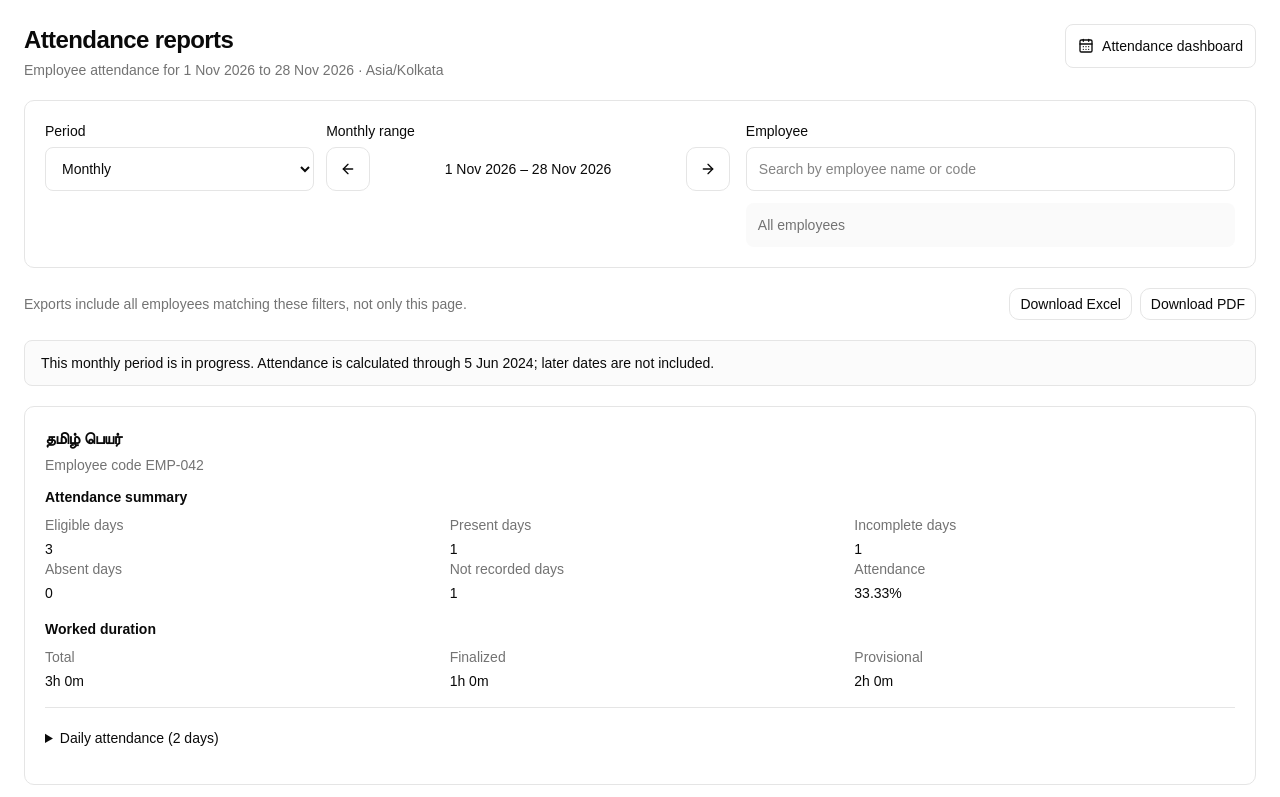
it: attendance report page › keeps the selected employee when searching and clears back to all employees
Focus the dropdown named "Search employees" at (990, 169), box [746, 147, 1235, 191]
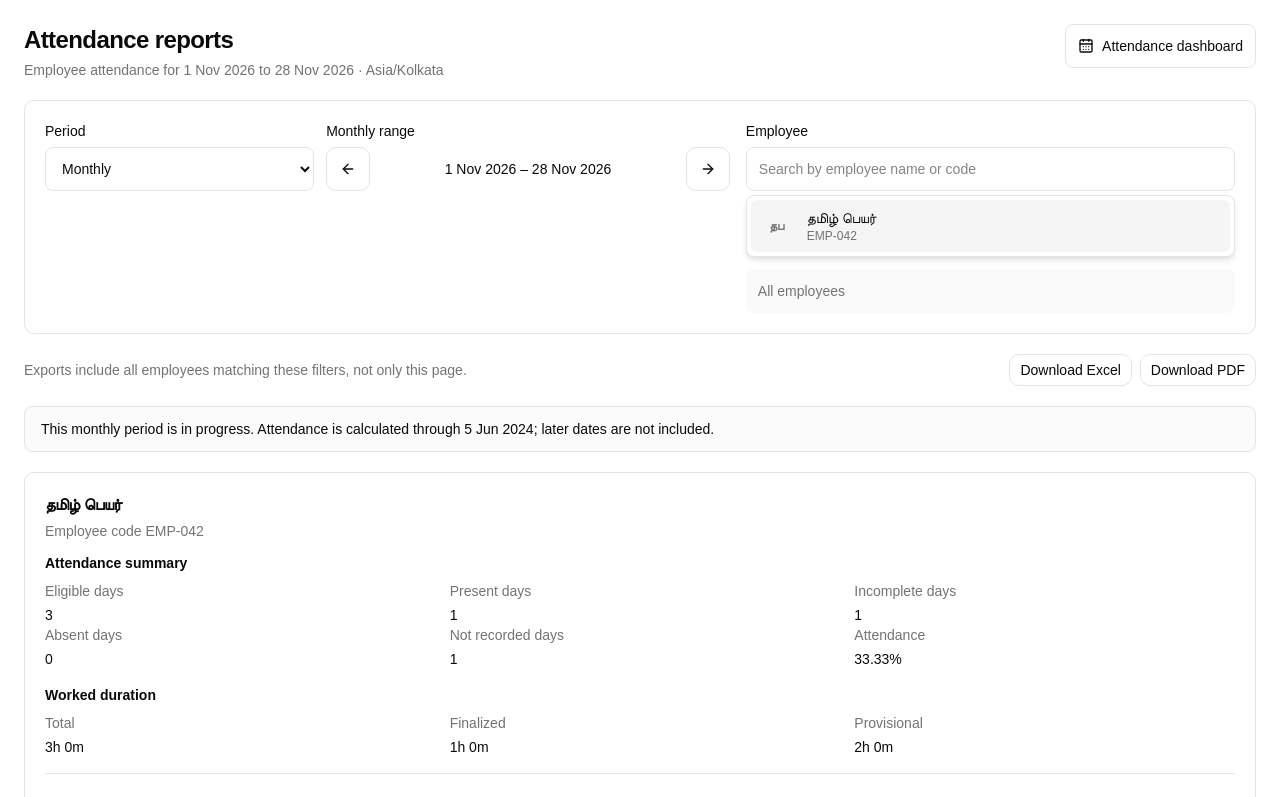
Result: the number of options is 1
Click the option "தப தமிழ் பெயர் EMP-042" at (777, 226), box [751, 200, 1230, 252]
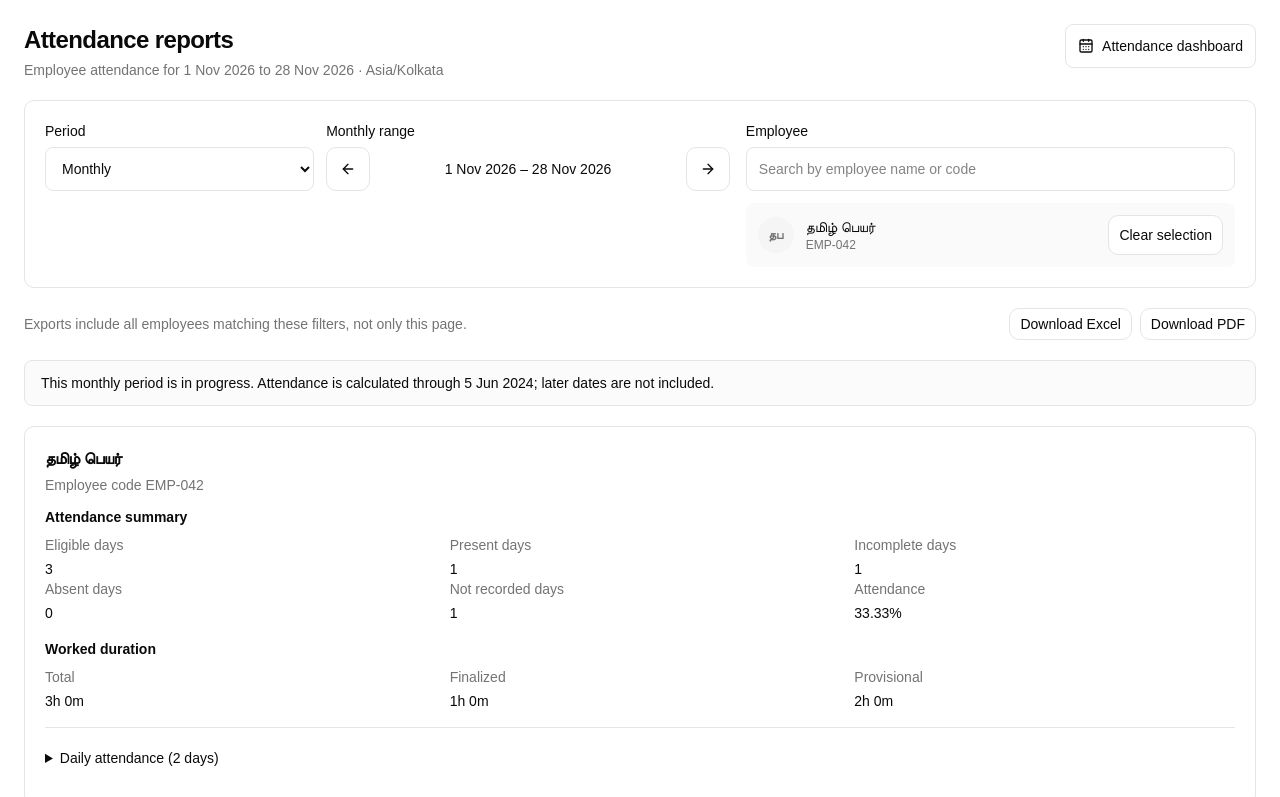
Type "EMP-042" into the dropdown named "Search employees" at (990, 169), box [746, 147, 1235, 191]
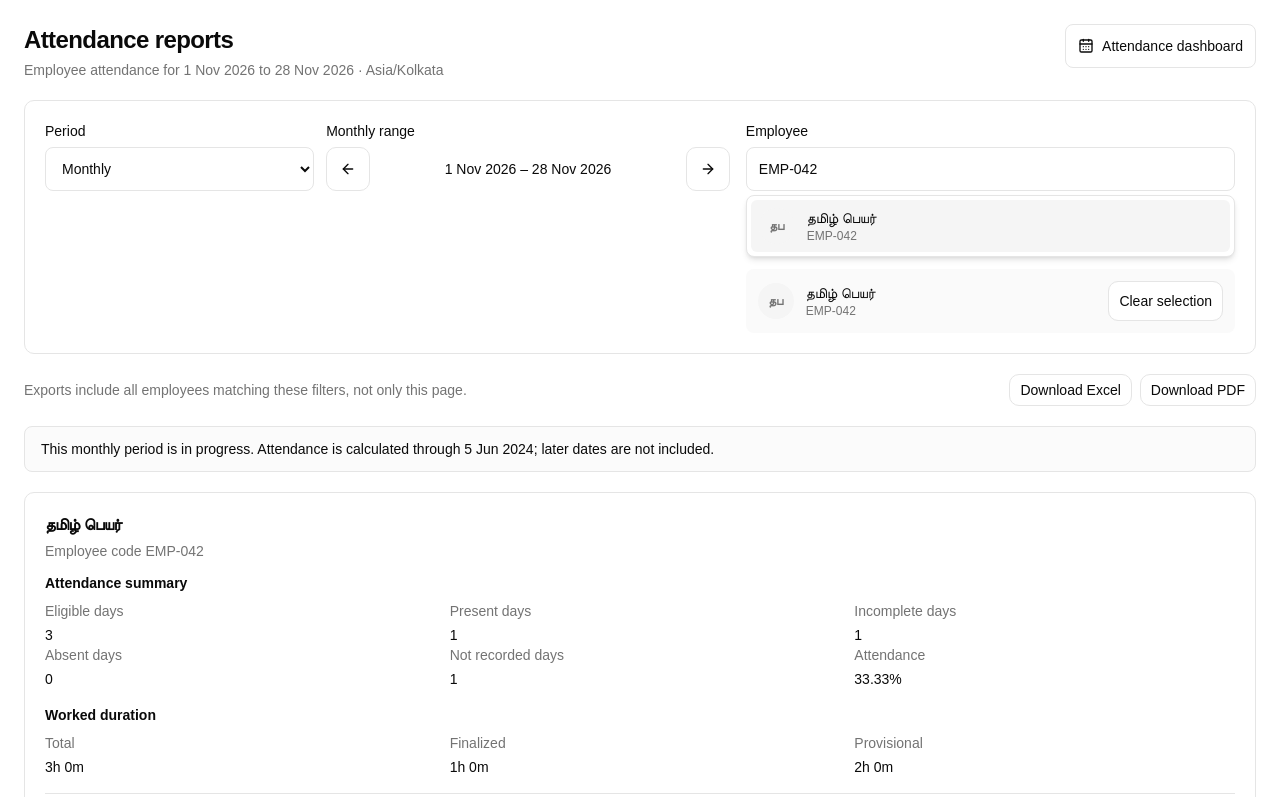
Result: the button "Clear selection" is shown
Click the button "Clear selection" at (1166, 301), box [1108, 281, 1223, 321]
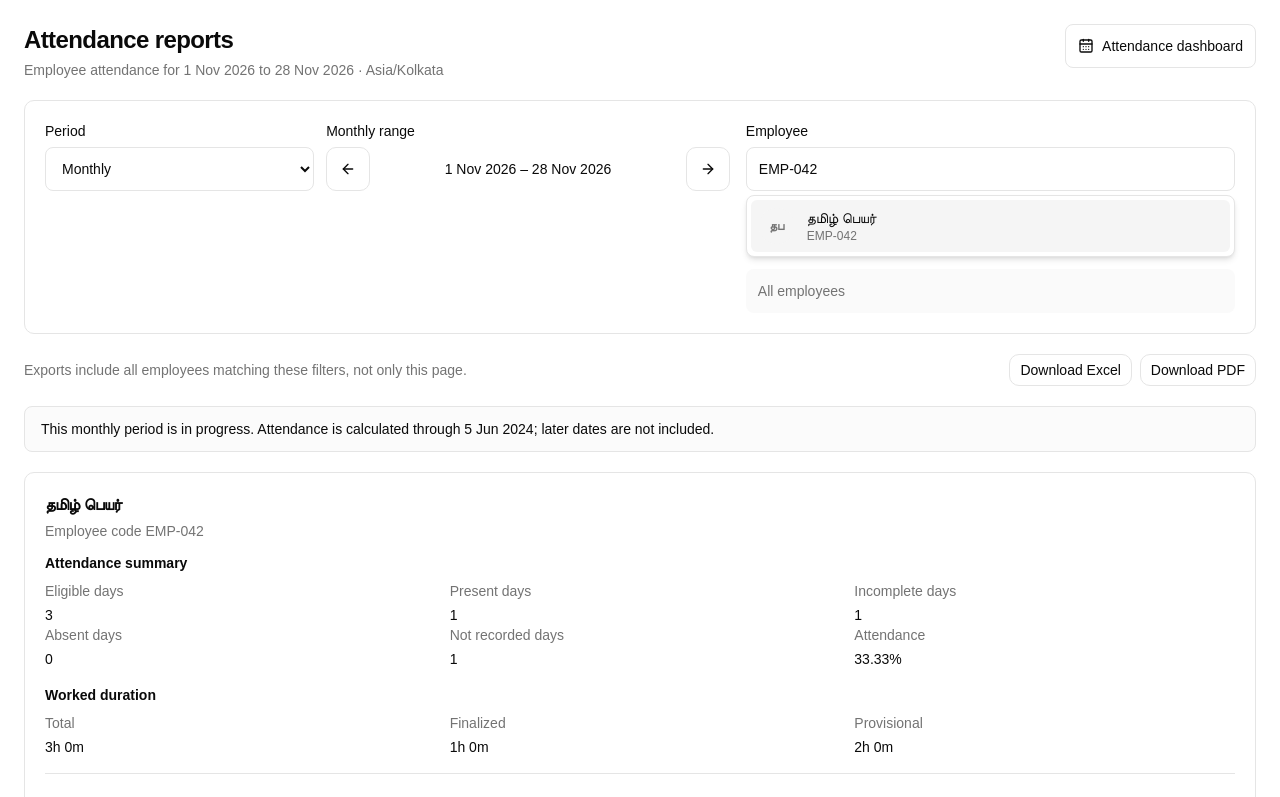
Result: the text "All employees" is shown at [758, 281, 845, 301]
